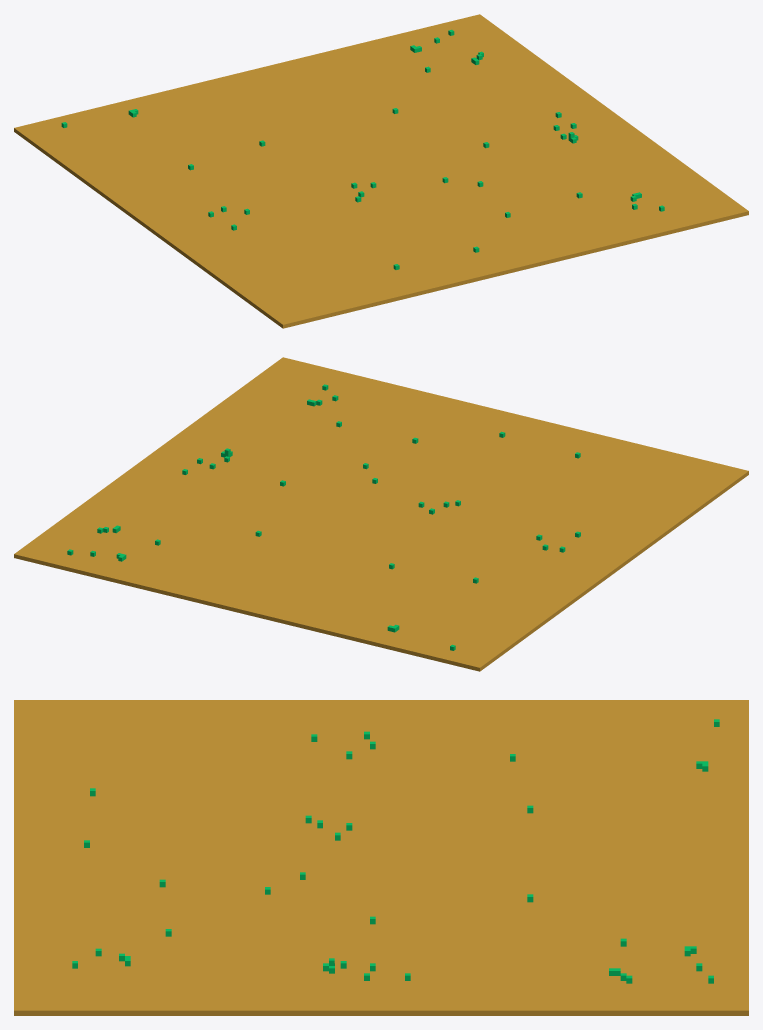
File: DesertPlantation.obj
3 views of the same model, one above another, from view 1: azimuth 30°, elevation 25°; view 2: azimuth 150°, elevation 25°; view 3: azimuth 270°, elevation 25° (orthographic). The views are drawn at different scales.
Visible parts, largest first — view 1: desertPlantation; view 2: desertPlantation; view 3: desertPlantation.
Boxes of the visible parts, x1=… form: desertPlantation: x1=14, y1=14, x2=748, y2=328; desertPlantation: x1=14, y1=357, x2=748, y2=671; desertPlantation: x1=14, y1=700, x2=748, y2=1015.
Size of the model in its own units: 126 by 3 by 126.
Materials: 1 (1 with a texture image).
